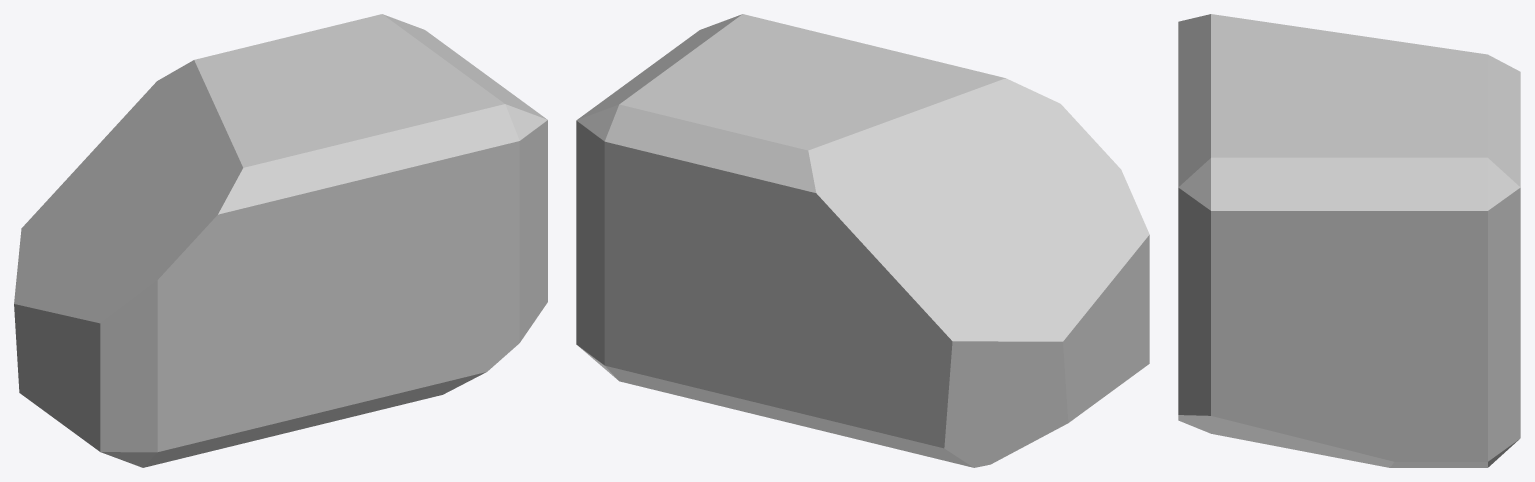
Rendered from Rock_Block_m_09.fbx.
3 renders of one model, left to right at view 1: azimuth 30°, elevation 25°; view 2: azimuth 150°, elevation 25°; view 3: azimuth 270°, elevation 25°, orthographic. The views are drawn at different scales.
Visible parts, largest first — view 1: Rock_Block_m_09; view 2: Rock_Block_m_09; view 3: Rock_Block_m_09.
Boxes of the visible parts, x1=… form: Rock_Block_m_09: x1=14, y1=14, x2=547, y2=467; Rock_Block_m_09: x1=576, y1=14, x2=1149, y2=467; Rock_Block_m_09: x1=1178, y1=14, x2=1520, y2=467.
Bounding box in the file's own units: 107 × 63 × 63.
